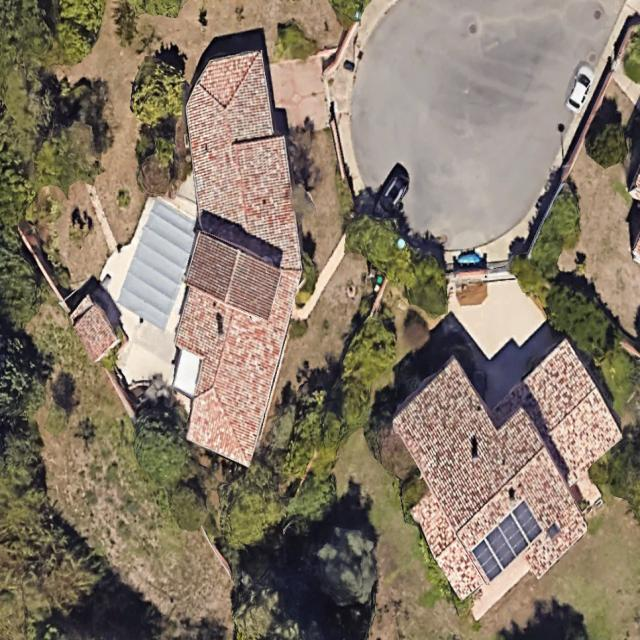maison: (379, 323, 640, 604), (157, 45, 320, 468)
